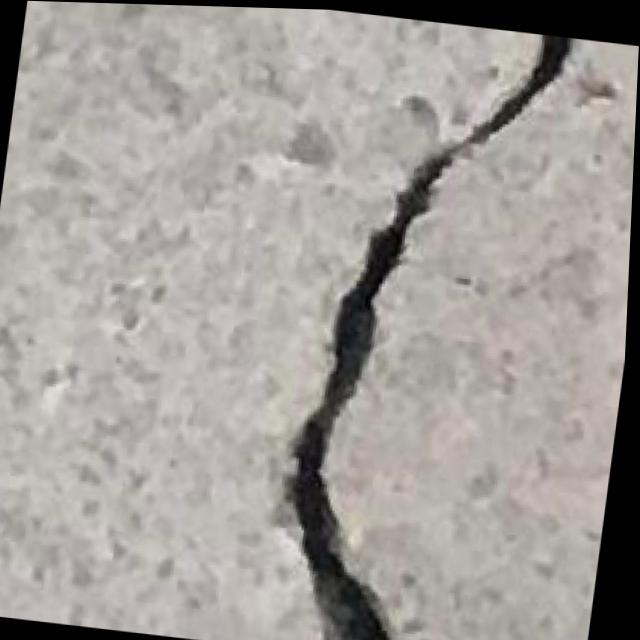Crack: (257, 9, 571, 640)
